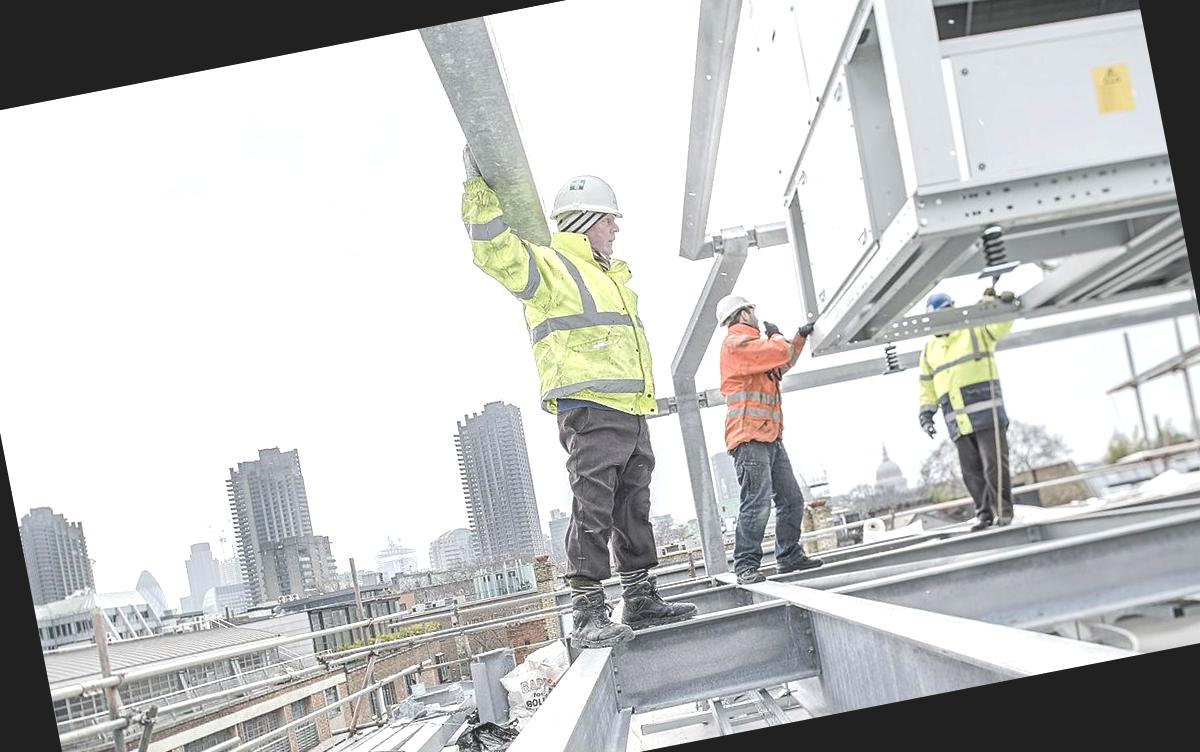helmet: (537, 167, 625, 247), (708, 282, 767, 340)
person: (460, 162, 716, 654), (684, 278, 845, 590)
